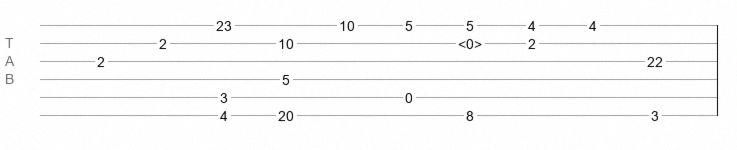0: (405, 90, 413, 100)
10: (278, 36, 294, 46), (339, 18, 355, 28)
2: (97, 54, 105, 64), (159, 36, 167, 46), (528, 36, 536, 46)
20: (278, 108, 294, 118)
22: (647, 54, 663, 64)
23: (216, 18, 232, 28)
3: (220, 90, 228, 100), (651, 108, 659, 118)
4: (220, 108, 228, 118), (528, 18, 536, 28), (589, 18, 597, 28)
5: (282, 72, 290, 82), (405, 18, 413, 28), (466, 18, 474, 28)
8: (466, 108, 474, 118)
harmonic: (458, 36, 482, 46)
